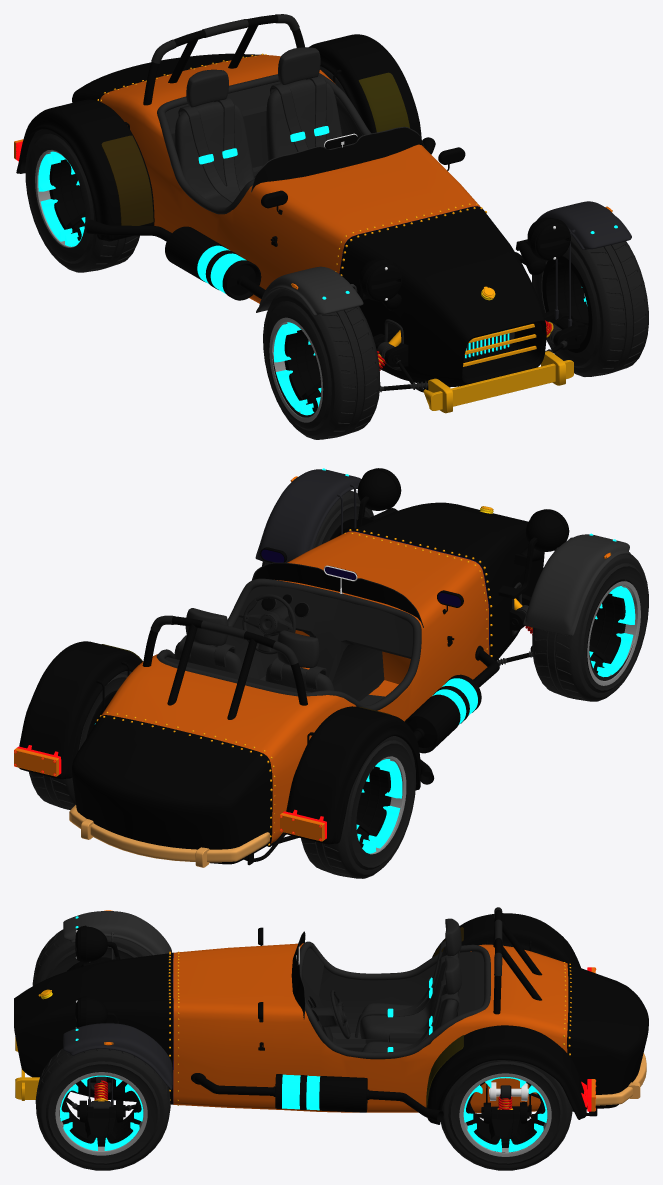
Rendered from futuristic vehicle.glb.
The picture shows the model from 3 angles, top to bottom: view 1: azimuth 30°, elevation 25°; view 2: azimuth 150°, elevation 25°; view 3: azimuth 270°, elevation 25°; orthographic projection. The views are drawn at different scales.
Visible parts, largest first — view 1: Empty, Box224, mudguardbackleft, Wheels006.001, Wheels006, Line031, Wheels006.002, Box165, Sphere023, Box09, Loft01, Shape002 (+6 smaller); view 2: Empty, mudguardbackleft, Box230, Wheels006.001, Wheels006.002, Box224, Sphere023, Line031, Shape002, Loft01, Box232, Box165 (+7 smaller); view 3: Empty, mudguardbackleft, Wheels006, Box224, Wheels006.003, Line031, Shape002, Box230, Sphere023, Wheels006.001, Loft01, Line020 (+6 smaller).
Part boxes in pixels (x1,y1,x2,y2): Empty: (35, 53, 631, 422); Box224: (174, 47, 342, 207); mudguardbackleft: (16, 34, 421, 241); Wheels006.001: (263, 289, 380, 439); Wheels006: (532, 235, 648, 376); Line031: (86, 137, 435, 300); Wheels006.002: (25, 129, 139, 272); Box165: (251, 126, 424, 192); Sphere023: (356, 217, 570, 310); Box09: (423, 351, 573, 413); Loft01: (143, 14, 304, 105); Shape002: (157, 73, 371, 214); Empty: (72, 468, 640, 865); mudguardbackleft: (19, 641, 420, 844); Box230: (165, 586, 412, 701); Wheels006.001: (532, 554, 648, 701); Wheels006.002: (301, 736, 416, 878); Box224: (174, 608, 334, 692); Sphere023: (357, 468, 569, 598); Line031: (404, 645, 499, 784); Shape002: (156, 578, 421, 710); Loft01: (142, 615, 307, 719); Box232: (69, 805, 269, 867); Box165: (251, 562, 423, 627); Empty: (14, 910, 648, 1156); mudguardbackleft: (427, 913, 586, 1124); Wheels006: (35, 1048, 170, 1170); Box224: (355, 918, 461, 1052); Wheels006.003: (440, 1060, 572, 1170); Line031: (191, 1073, 443, 1122); Shape002: (299, 941, 490, 1059); Box230: (302, 948, 484, 1051); Sphere023: (75, 925, 120, 1027); Wheels006.001: (32, 929, 151, 985); Loft01: (493, 907, 542, 1014); Line020: (463, 1077, 547, 1152).
Size of the model in its own units: 2.92 by 1.67 by 5.35.
